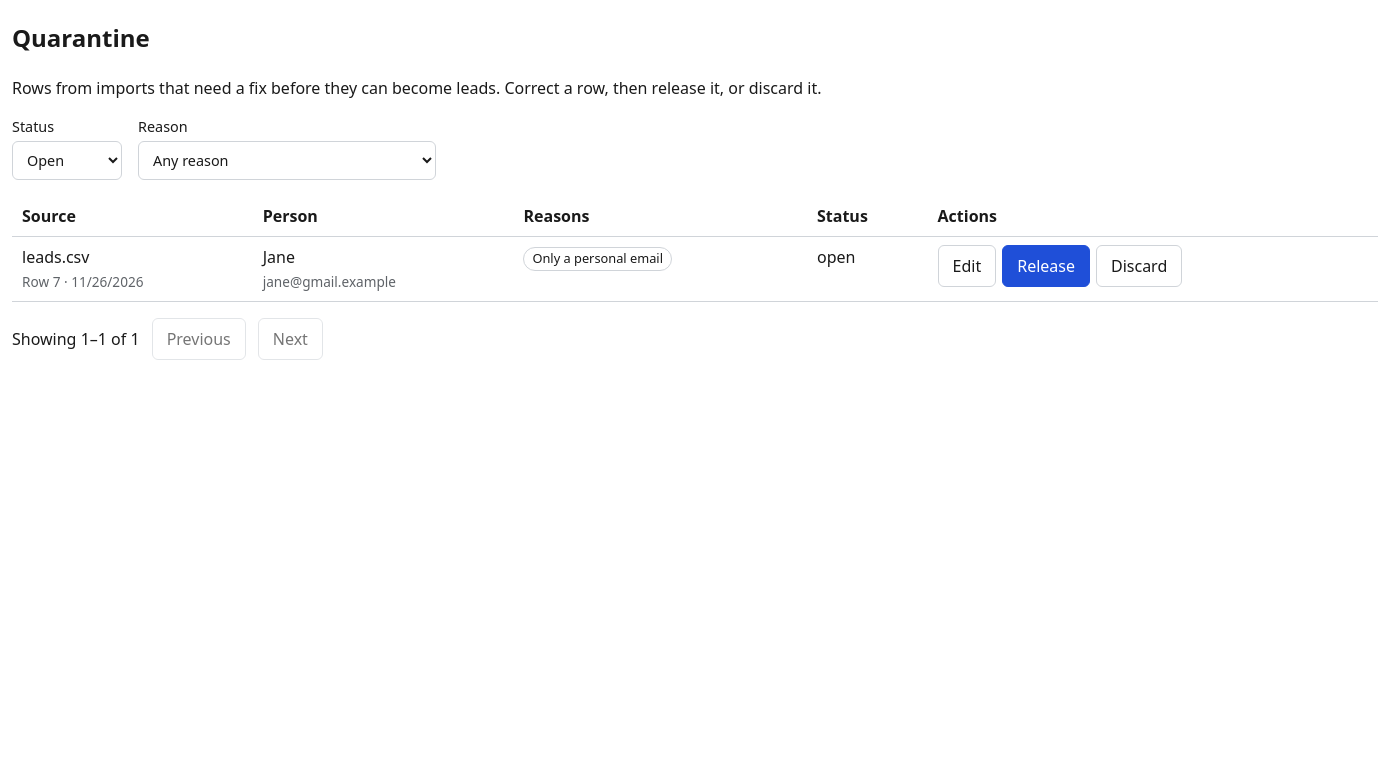
Test case: edit › saving without a change shows a message and sends nothing
The image size is (1378, 768).
Expected: the text "leads.csv" is shown, [22, 246, 89, 268]
Click the button with aria-label "Edit row 7 of leads.csv" at (967, 266), box [938, 245, 996, 287]
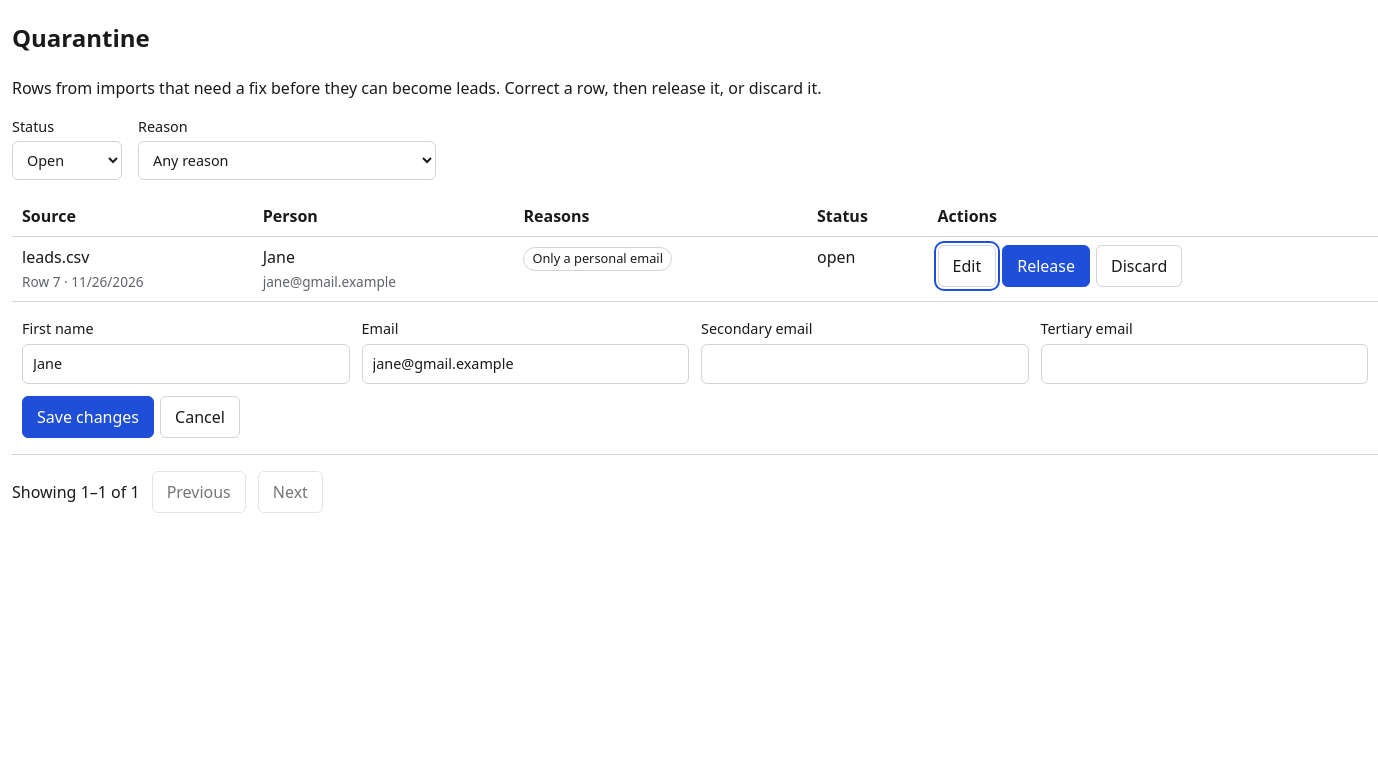
Click the button "Save changes" at (88, 417), box [22, 396, 154, 438]
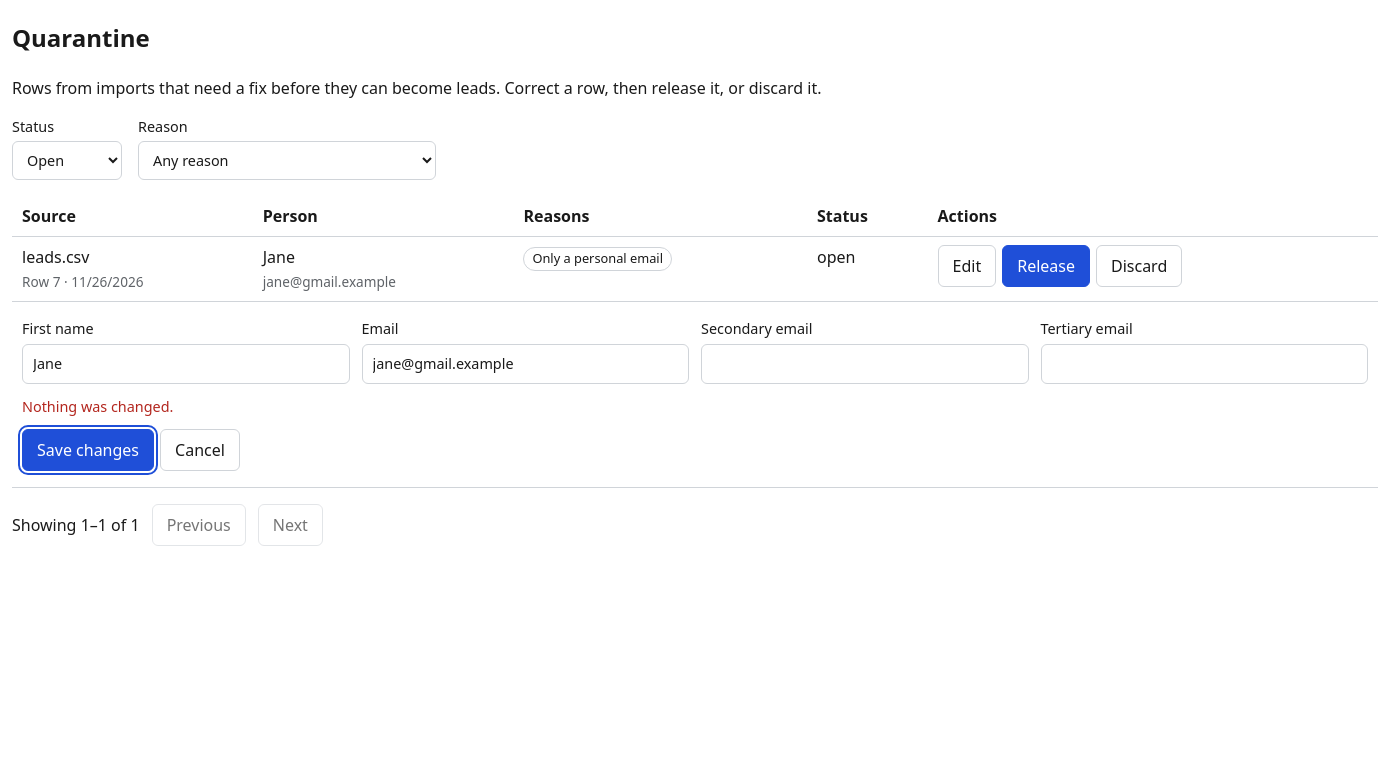
Now the text "Nothing was changed." is shown, box [22, 397, 173, 416]
